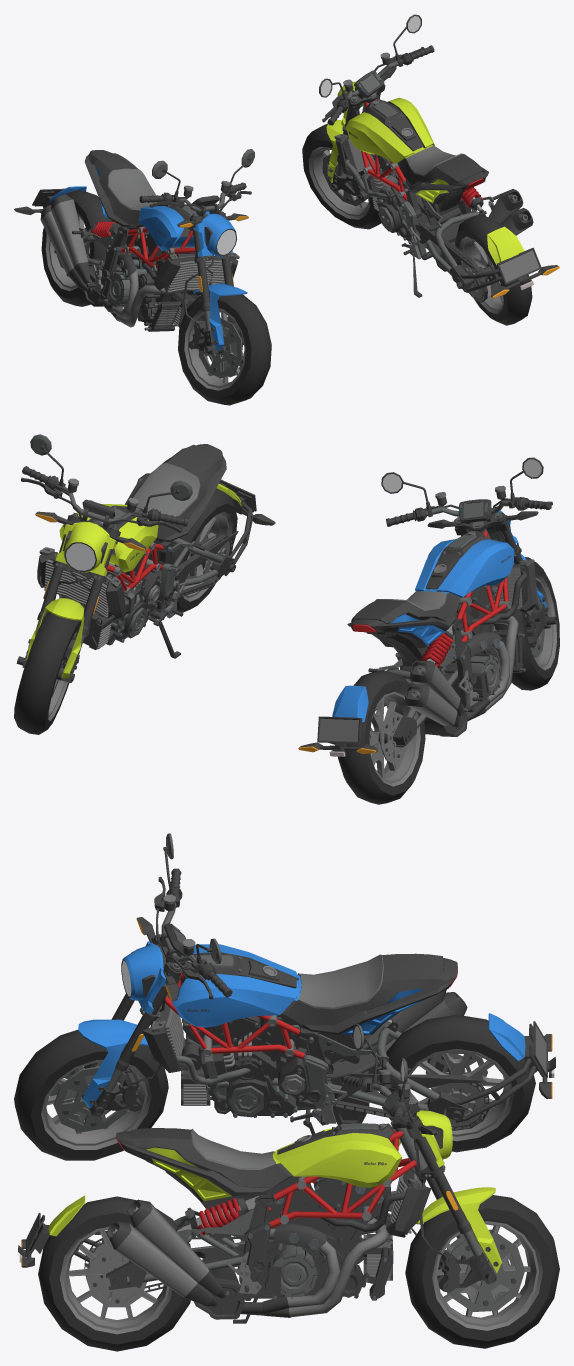
The model's file is low-poly_motorcycle__2.glb.
3 renders of one model, top to bottom at view 1: azimuth 30°, elevation 25°; view 2: azimuth 150°, elevation 25°; view 3: azimuth 270°, elevation 25°, orthographic. The views are drawn at different scales.
Parts seen in each view (by area): view 1: Body 1_Textures_0, Body 003_Textures_0, Wheel_F_Textures_0, Steer_Textures_0, Body 004_Textures_0, Steer001_Textures_0, Body 003_black_m_0, Wheel_B001_Textures_0, Wheel_F001_Textures_0, Wheel_B_Textures_0, Steer_Mat Body_0, Wheel_F_Mat Wheel_0 (+7 smaller); view 2: Body 1_Textures_0, Body 003_Textures_0, Steer001_Textures_0, Steer_Textures_0, Wheel_B_Textures_0, Wheel_F001_Textures_0, Body 1_Mat Body_0, Body 2_Textures_0, Body 004_Textures_0, Steer001_black_m_0, Wheel_B_Mat Wheel_0, Wheel_F_Textures_0 (+5 smaller); view 3: Body 003_Textures_0, Body 1_Textures_0, Wheel_F001_Textures_0, Wheel_F_Textures_0, Wheel_B001_Textures_0, Steer_Textures_0, Body 2_Textures_0, Wheel_B_Textures_0, Steer001_Textures_0, Body 003_black_m_0, Body 1_Mat Body_0, Body 004_Textures_0 (+7 smaller).
Part boxes in pixels (x1=…): Body 1_Textures_0: x1=40, y1=150, x2=239, y2=331; Body 003_Textures_0: x1=334, y1=99, x2=533, y2=271; Wheel_F_Textures_0: x1=178, y1=293, x2=271, y2=405; Steer_Textures_0: x1=139, y1=149, x2=254, y2=354; Body 004_Textures_0: x1=401, y1=187, x2=559, y2=302; Steer001_Textures_0: x1=319, y1=14, x2=434, y2=200; Body 003_black_m_0: x1=345, y1=97, x2=448, y2=203; Wheel_B001_Textures_0: x1=455, y1=214, x2=532, y2=325; Wheel_F001_Textures_0: x1=302, y1=123, x2=381, y2=229; Wheel_B_Textures_0: x1=41, y1=190, x2=111, y2=306; Steer_Mat Body_0: x1=193, y1=213, x2=247, y2=350; Wheel_F_Mat Wheel_0: x1=184, y1=308, x2=245, y2=390; Body 1_Textures_0: x1=347, y1=531, x2=536, y2=736; Body 003_Textures_0: x1=37, y1=444, x2=226, y2=649; Steer001_Textures_0: x1=21, y1=434, x2=192, y2=682; Steer_Textures_0: x1=381, y1=457, x2=552, y2=647; Wheel_B_Textures_0: x1=338, y1=670, x2=425, y2=804; Wheel_F001_Textures_0: x1=14, y1=612, x2=80, y2=734; Body 1_Mat Body_0: x1=390, y1=539, x2=514, y2=645; Body 2_Textures_0: x1=298, y1=624, x2=457, y2=756; Body 004_Textures_0: x1=142, y1=479, x2=275, y2=601; Steer001_black_m_0: x1=26, y1=522, x2=116, y2=678; Wheel_B_Mat Wheel_0: x1=369, y1=689, x2=420, y2=786; Wheel_F_Textures_0: x1=494, y1=557, x2=559, y2=690; Body 003_Textures_0: x1=106, y1=1123, x2=431, y2=1319; Body 1_Textures_0: x1=142, y1=952, x2=467, y2=1125; Wheel_F001_Textures_0: x1=405, y1=1195, x2=559, y2=1348; Wheel_F_Textures_0: x1=14, y1=1029, x2=168, y2=1160; Wheel_B001_Textures_0: x1=38, y1=1196, x2=190, y2=1351; Steer_Textures_0: x1=84, y1=833, x2=232, y2=1117; Body 2_Textures_0: x1=272, y1=1020, x2=555, y2=1130; Wheel_B_Textures_0: x1=380, y1=1014, x2=535, y2=1152; Steer001_Textures_0: x1=341, y1=1024, x2=498, y2=1292; Body 003_black_m_0: x1=146, y1=1128, x2=402, y2=1201; Body 1_Mat Body_0: x1=171, y1=944, x2=424, y2=1034; Body 004_Textures_0: x1=18, y1=1195, x2=258, y2=1297.
Size of the model in its own units: 1.51 by 0.8692 by 1.41.
4 materials, 1 textured.
